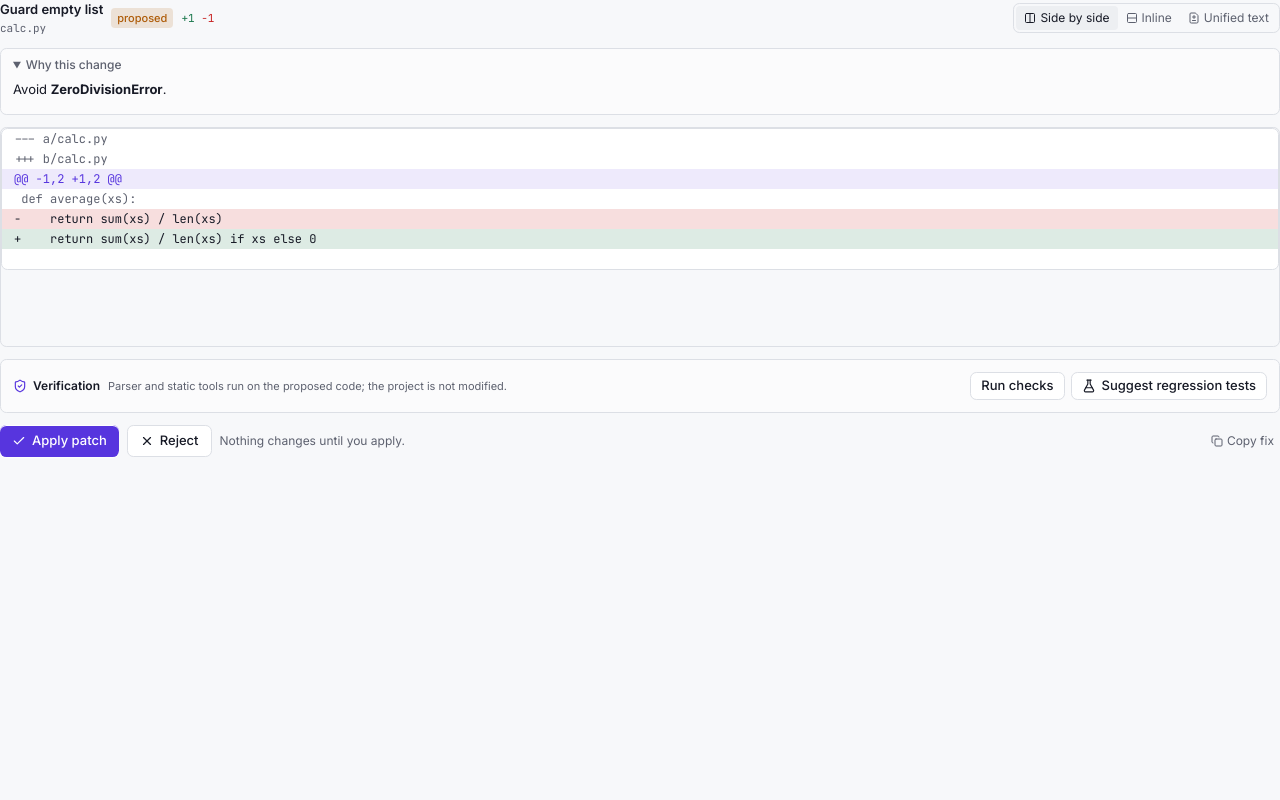
PatchReview › explains conflicts instead of pretending success
Step 1. Click the button "Apply patch" → (59, 441), box [0, 425, 119, 457]
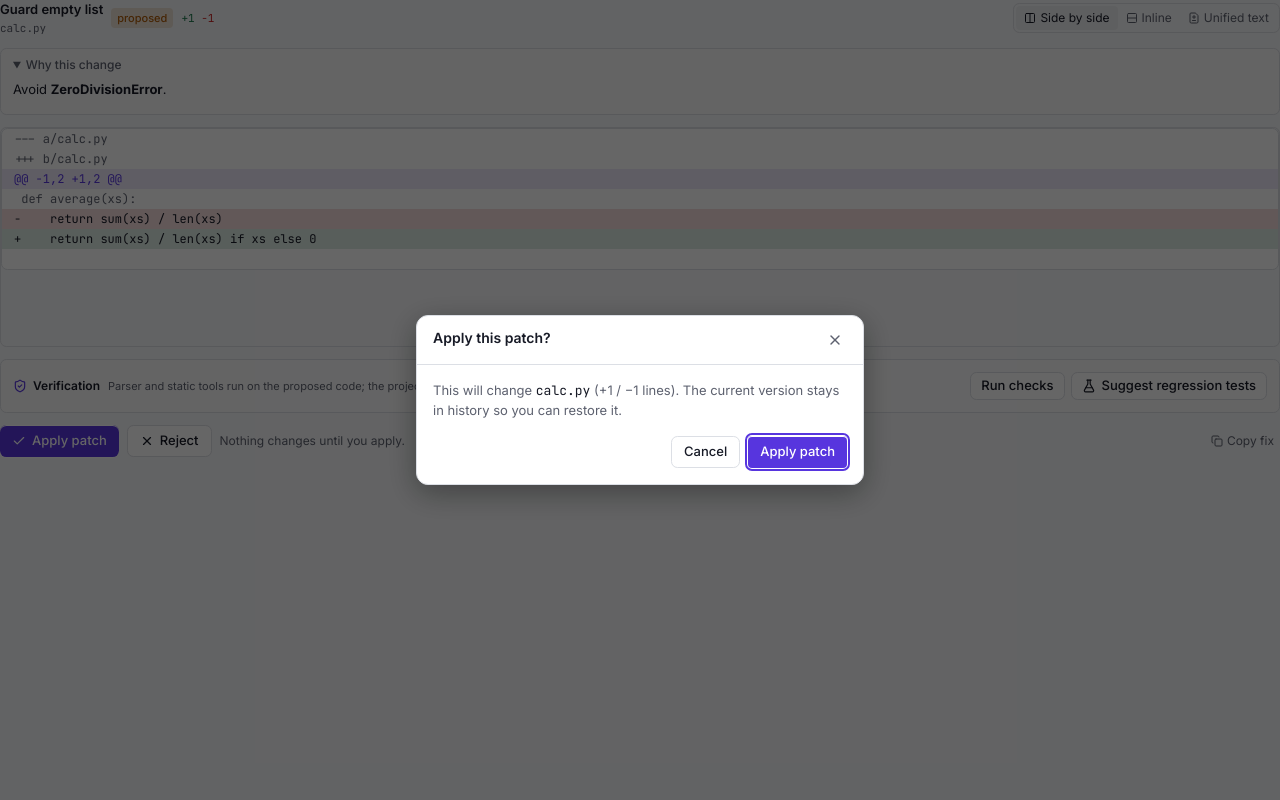
Step 2. Click the button "Apply patch" → (798, 452), box [748, 436, 847, 468]
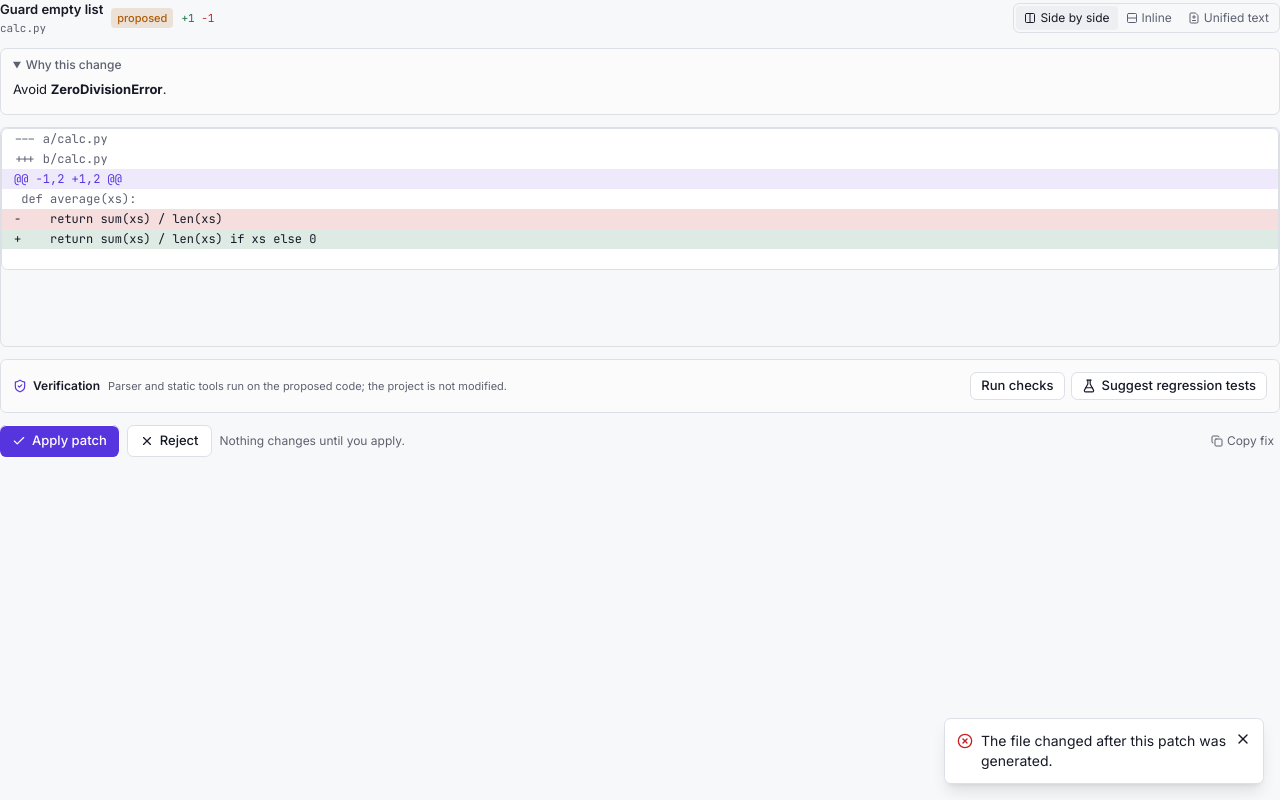
Expected: the text "proposed" is shown, [111, 8, 173, 28]
Expected: the text "The file changed after this patch was generated." is shown, [981, 731, 1227, 771]
